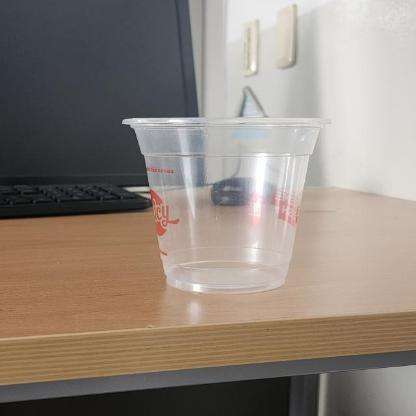Plastic Cup: (121, 117, 332, 293)
